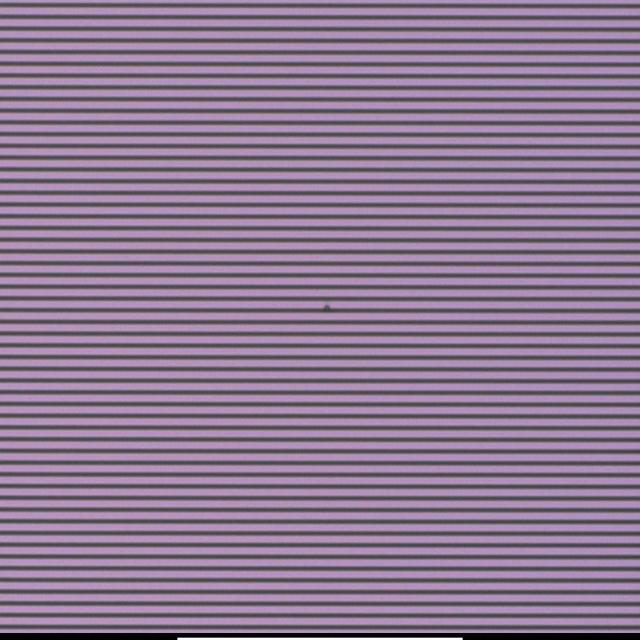03_intrusion: (320, 299, 334, 317)
